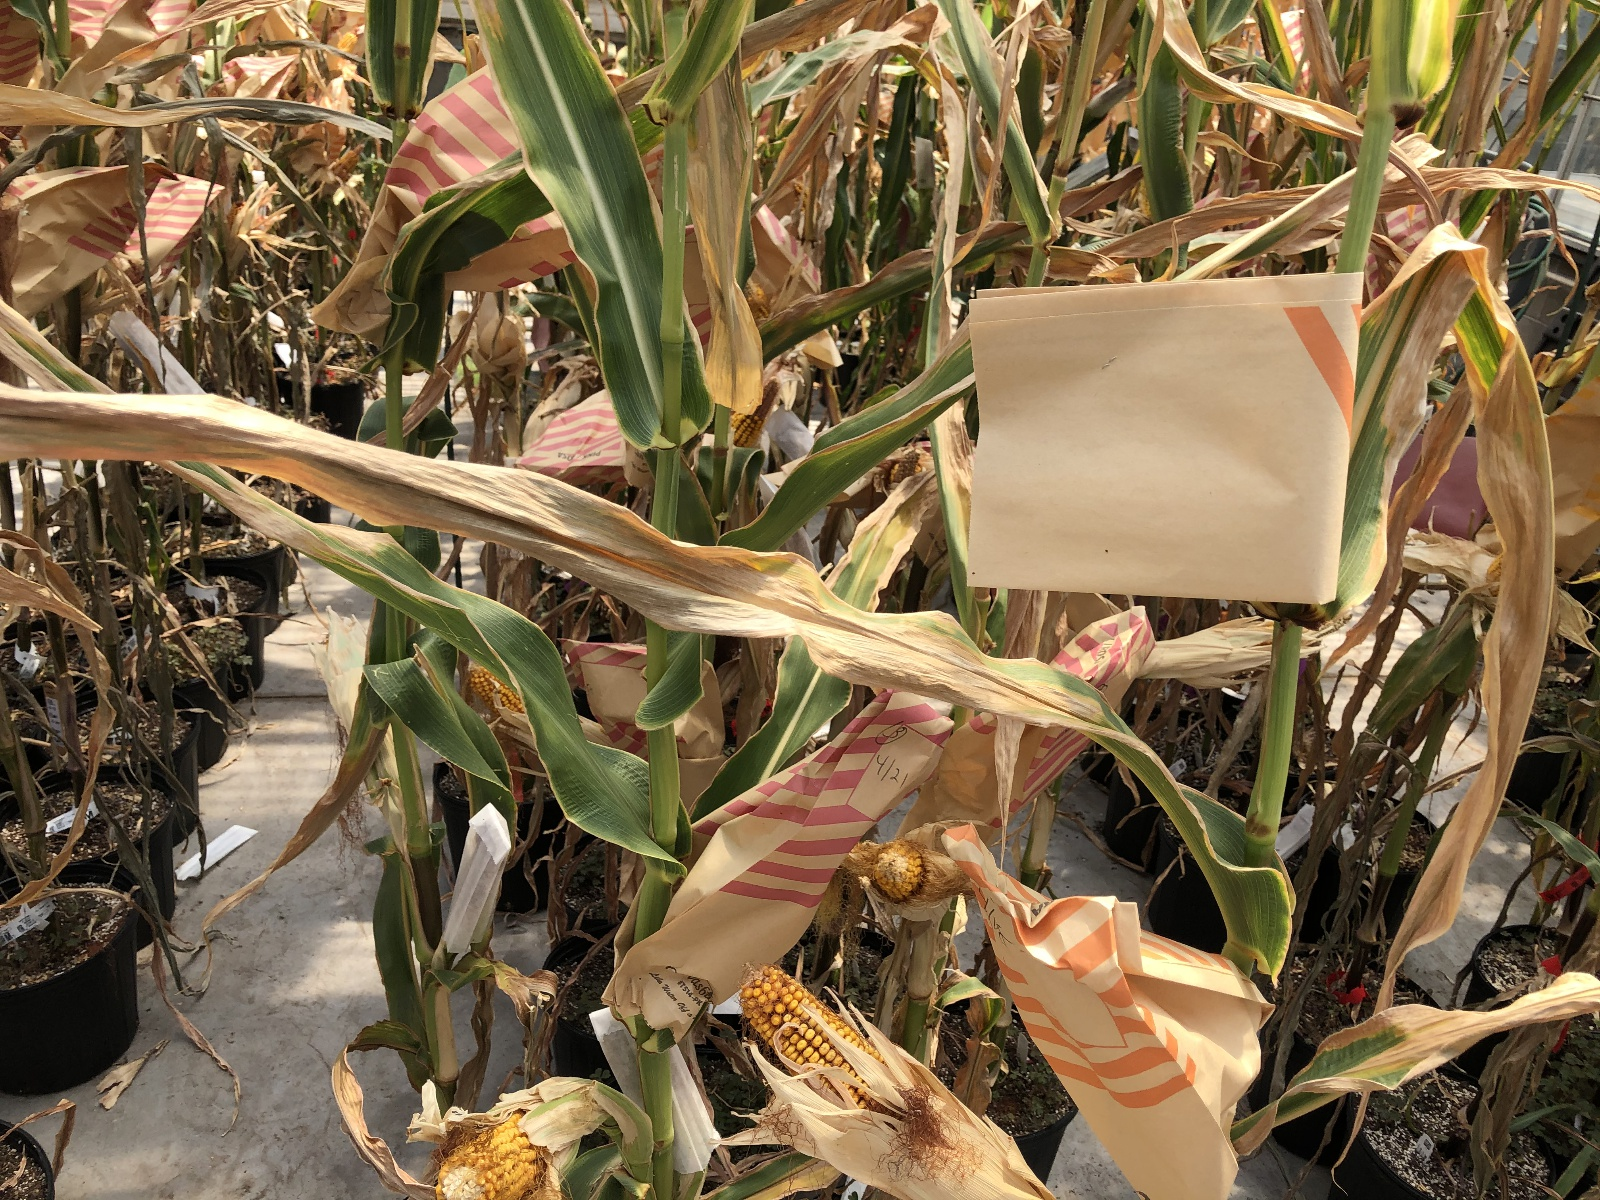ear: (734, 954, 1038, 1194), (422, 1102, 556, 1197), (857, 833, 934, 903), (726, 371, 787, 447), (461, 654, 529, 718)
